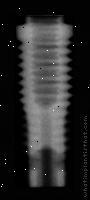Sterngold: (15, 16, 74, 189)
